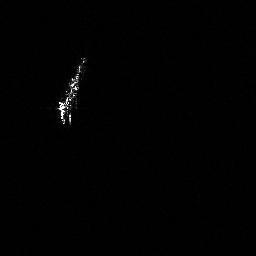ship: (52, 54, 89, 126)
